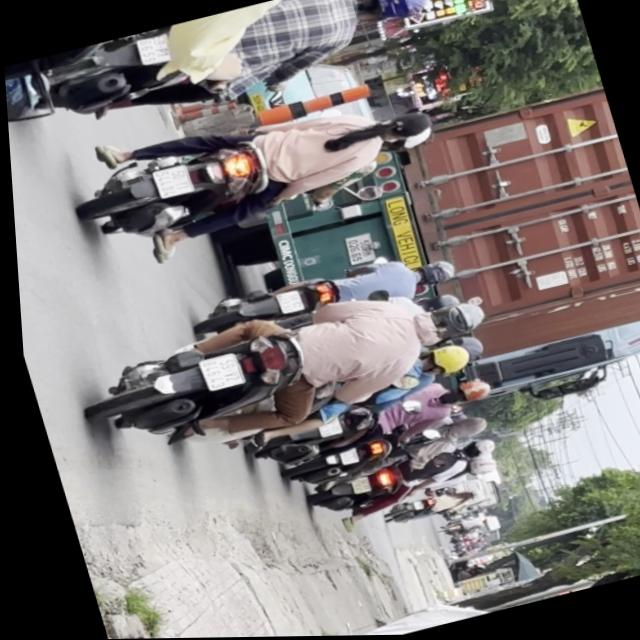helmet: (413, 295, 488, 344), (353, 0, 437, 28), (415, 339, 470, 379), (375, 122, 439, 156), (438, 375, 490, 408), (433, 411, 485, 443), (409, 255, 455, 288), (414, 287, 459, 314), (451, 453, 495, 480), (452, 435, 491, 461)
licenseplate: (67, 262, 505, 475), (55, 64, 472, 273), (233, 359, 499, 475), (187, 239, 463, 349), (293, 436, 505, 528), (274, 408, 499, 494)
motorcyclist: (373, 105, 435, 144)
nohelmet: (192, 350, 241, 391), (149, 162, 191, 198), (136, 32, 172, 64), (271, 288, 301, 314), (312, 417, 338, 436), (343, 474, 365, 494), (332, 447, 355, 465)
